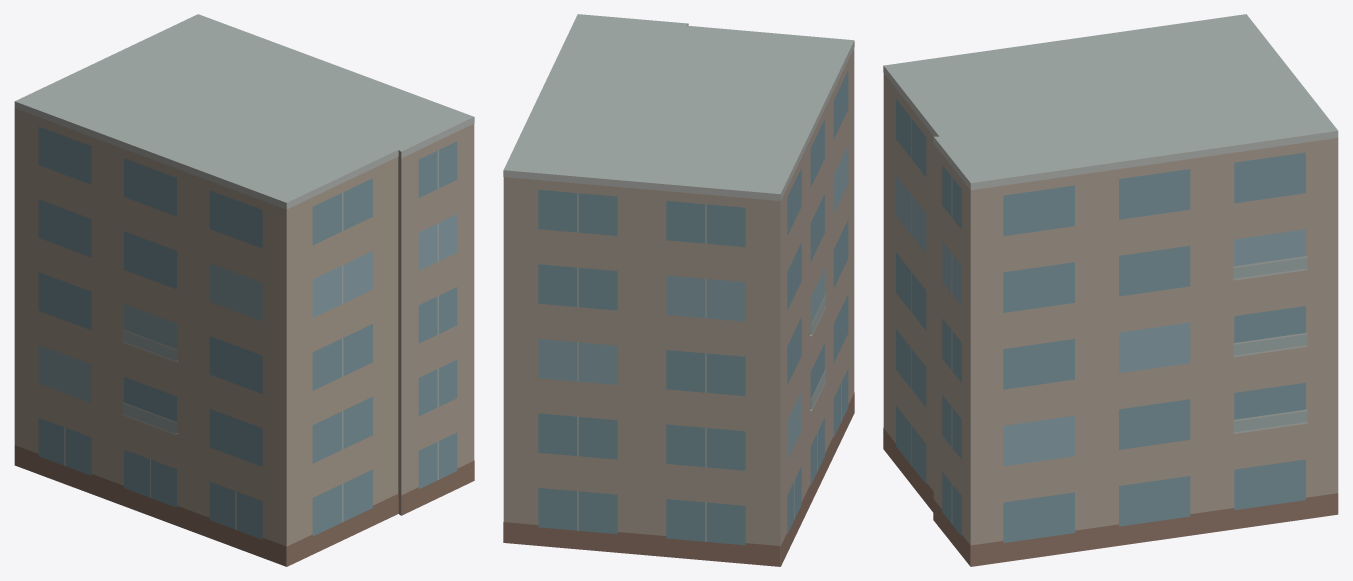
File: survey-upis-33006095.glb
3 views of the same model, side by side, from view 1: azimuth 30°, elevation 25°; view 2: azimuth 150°, elevation 25°; view 3: azimuth 270°, elevation 25° (orthographic). The views are drawn at different scales.
Visible parts, largest first — view 1: survey-upis-33006095.tmp; view 2: survey-upis-33006095.tmp; view 3: survey-upis-33006095.tmp.
Part boxes in pixels (x1=…): survey-upis-33006095.tmp: x1=14, y1=14, x2=474, y2=566; survey-upis-33006095.tmp: x1=503, y1=14, x2=854, y2=566; survey-upis-33006095.tmp: x1=883, y1=14, x2=1338, y2=566.
Size of the model in its own units: 12.64 by 13.35 by 14.35.
